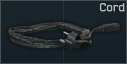Power cord: (0, 0, 127, 64)
